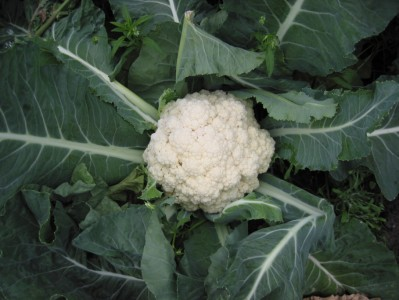cauliflower: (141, 85, 273, 212)
